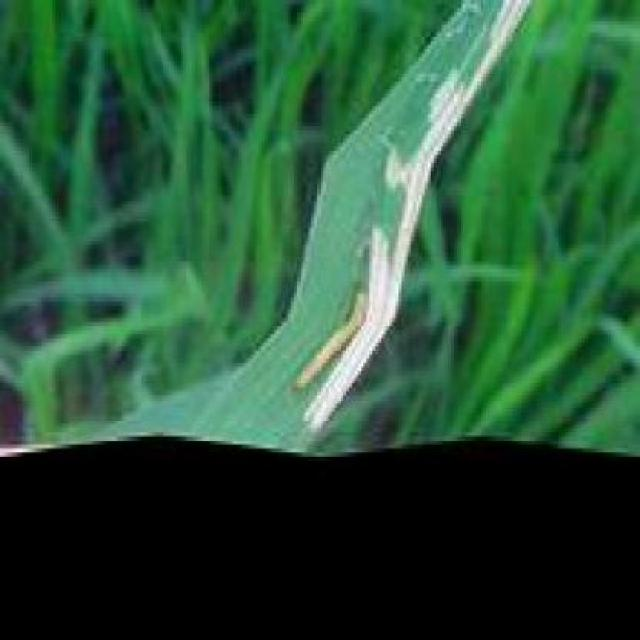leaf-folder: (269, 277, 391, 414)
